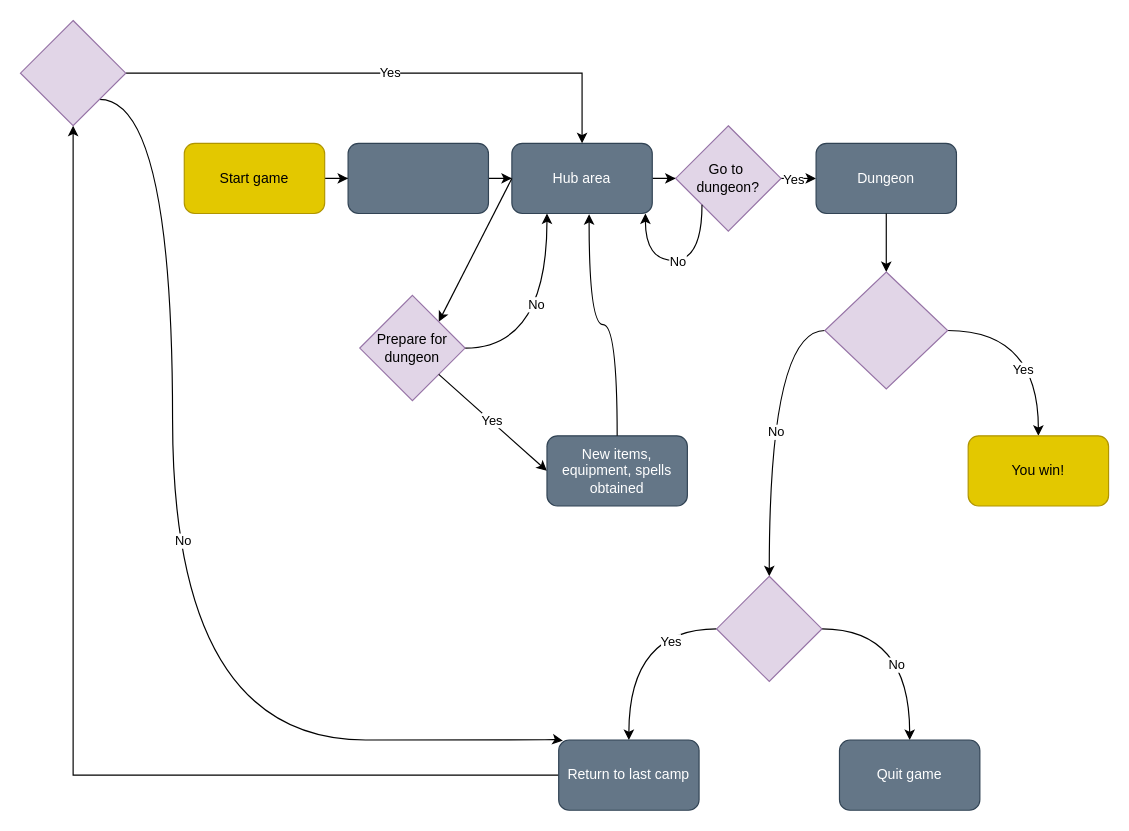
Some shapes in this 1129 by 831 pixel diagram are drawn without their labels. Each missing label, with the box of its shape:
Beat dungeon?: (824, 271, 948, 389)
Died. Try again?: (715, 575, 822, 682)
Return to hub?: (19, 19, 126, 126)
Tutorial: (347, 142, 488, 214)
